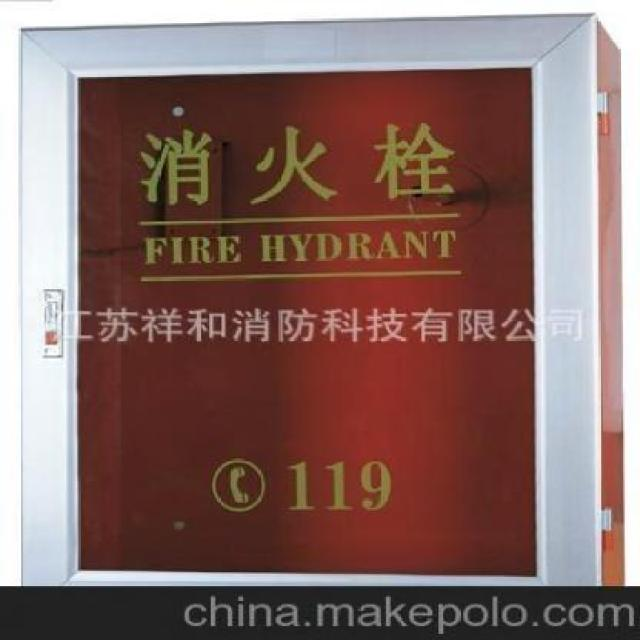firehydrant: (10, 3, 632, 588)
